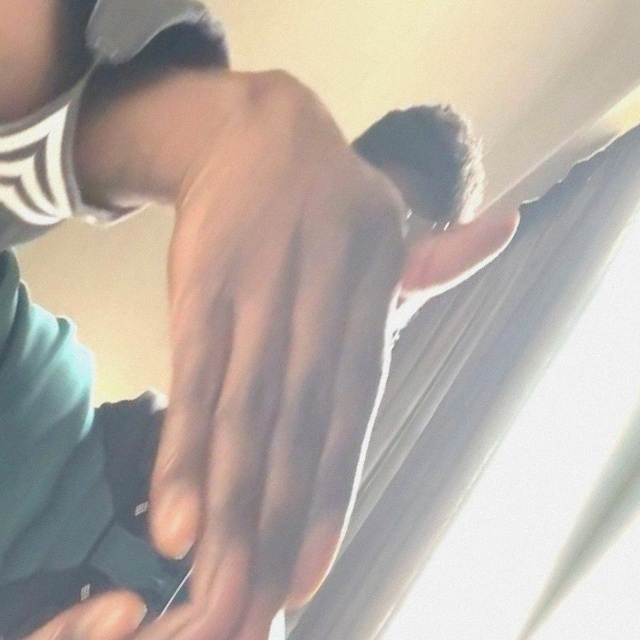Paper: (0, 0, 34, 309)
